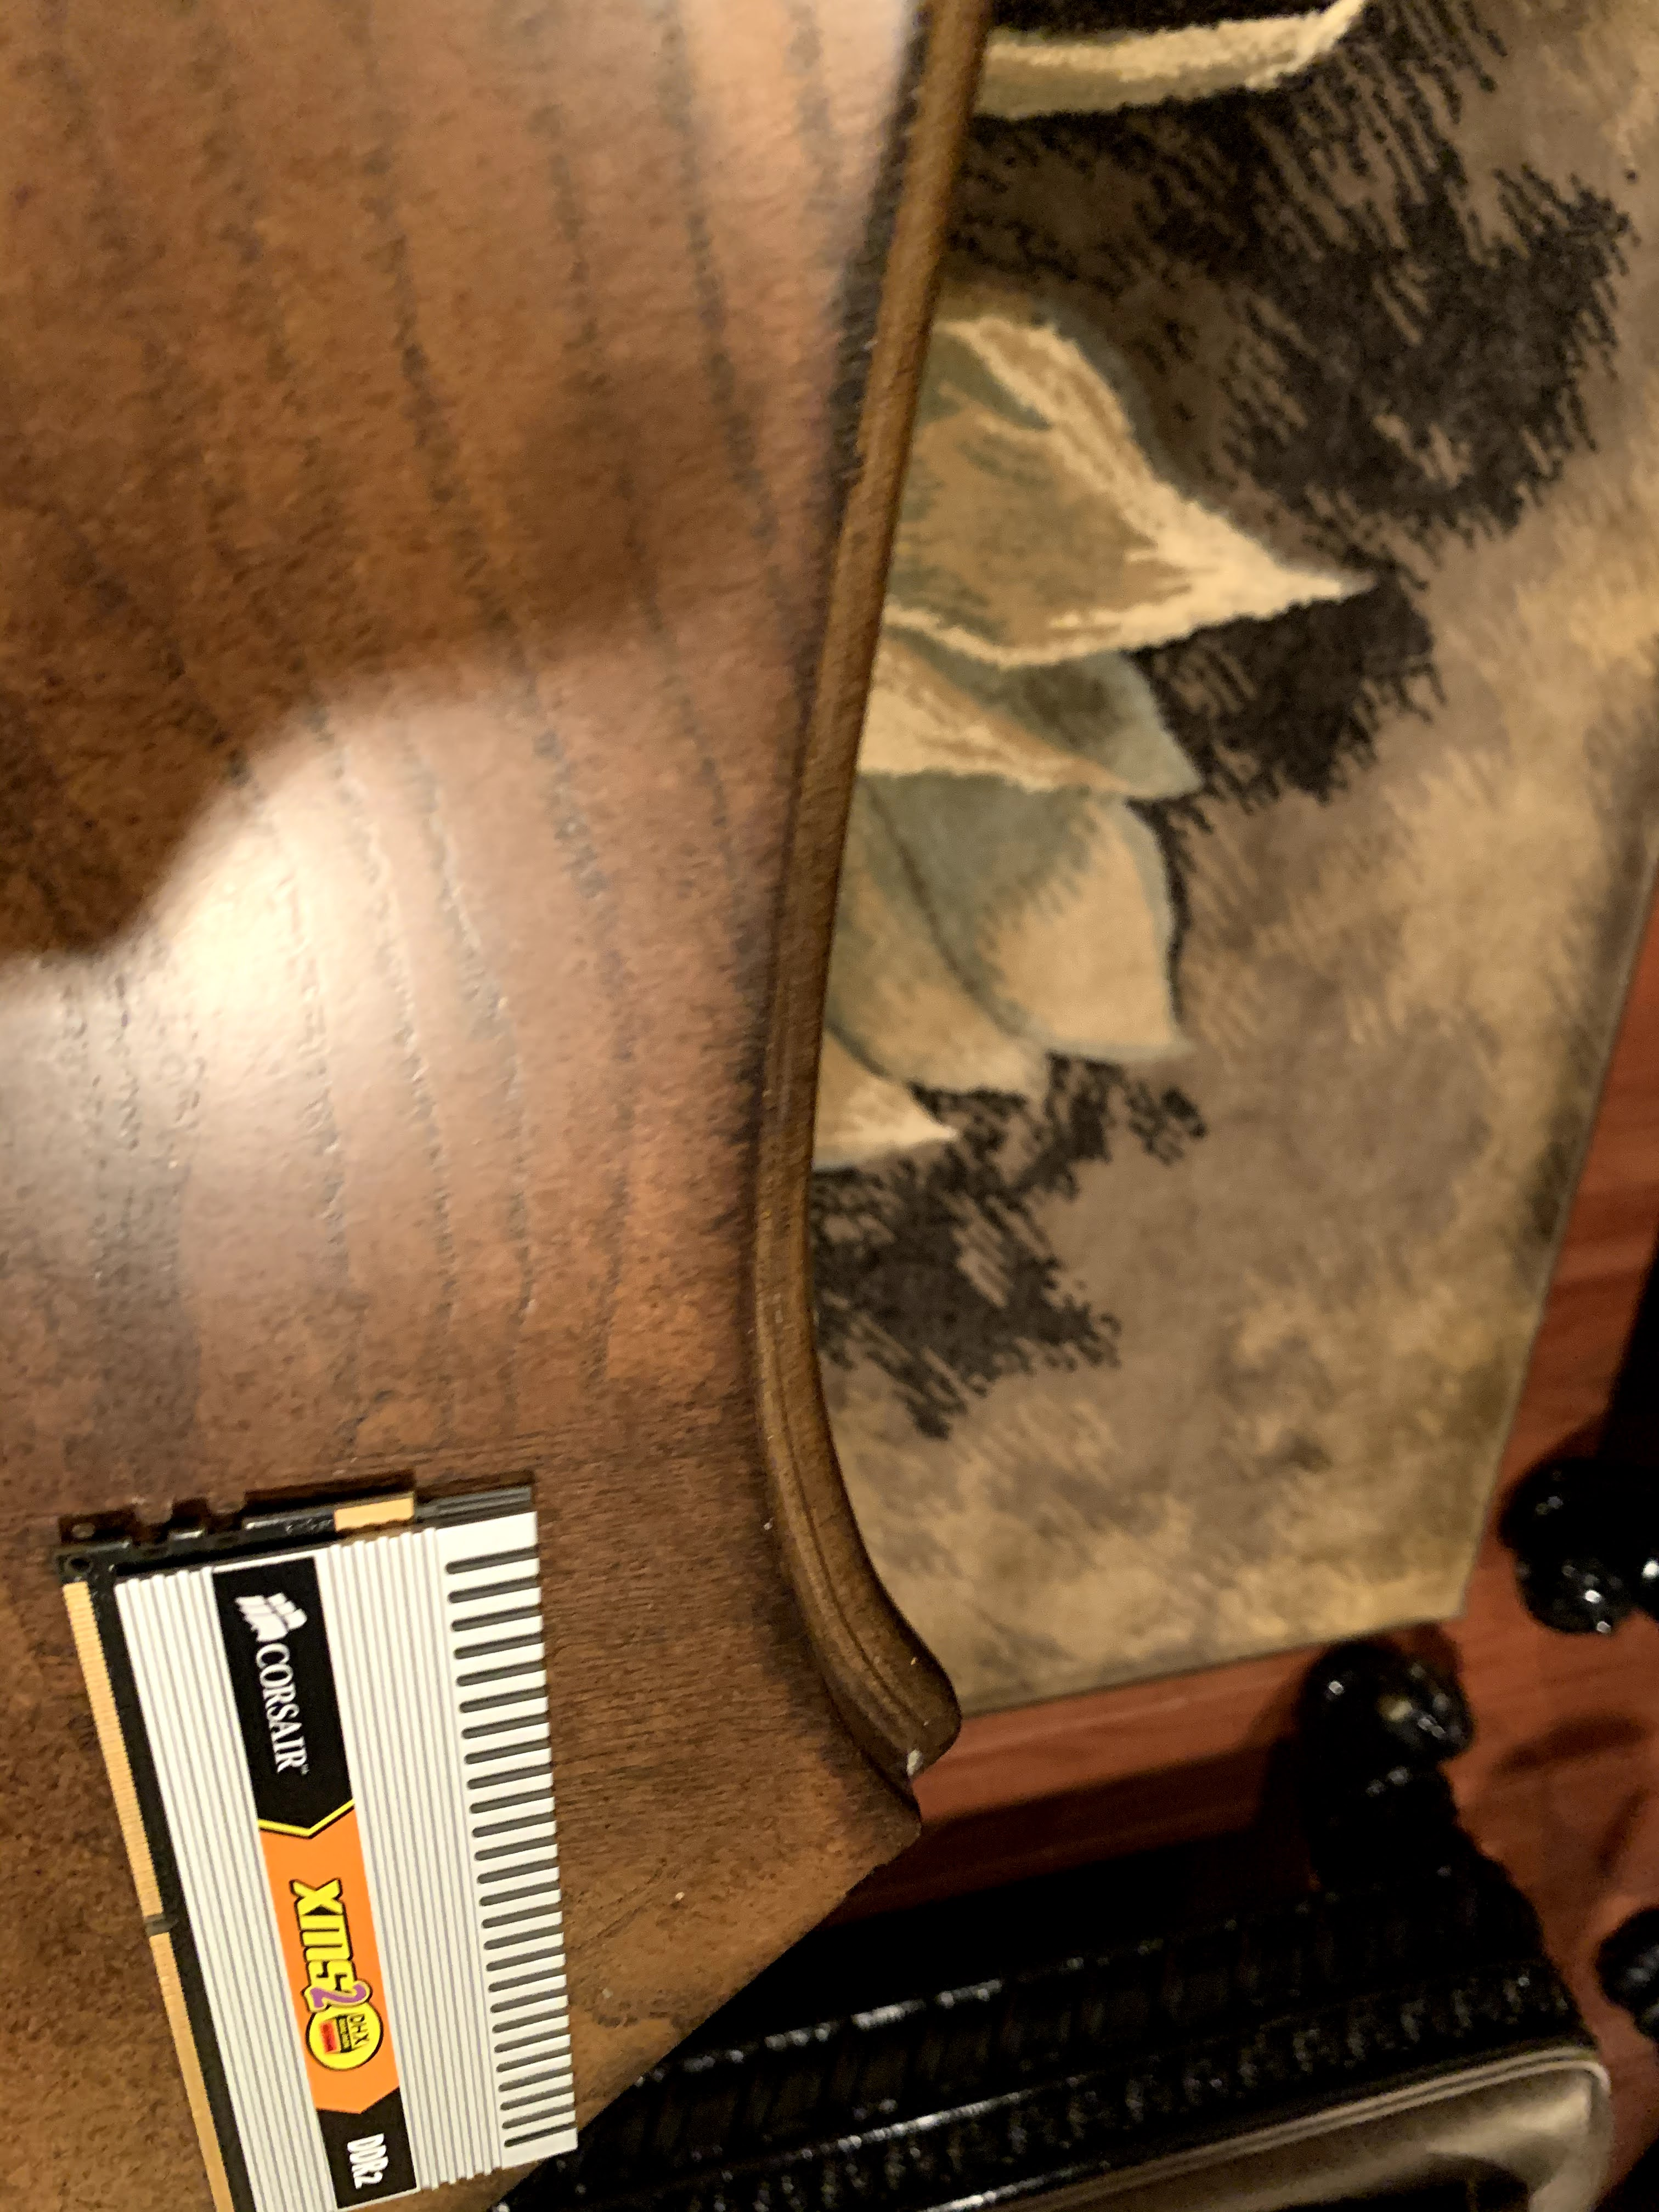Space-debris-medium: (31, 1460, 687, 2210)
